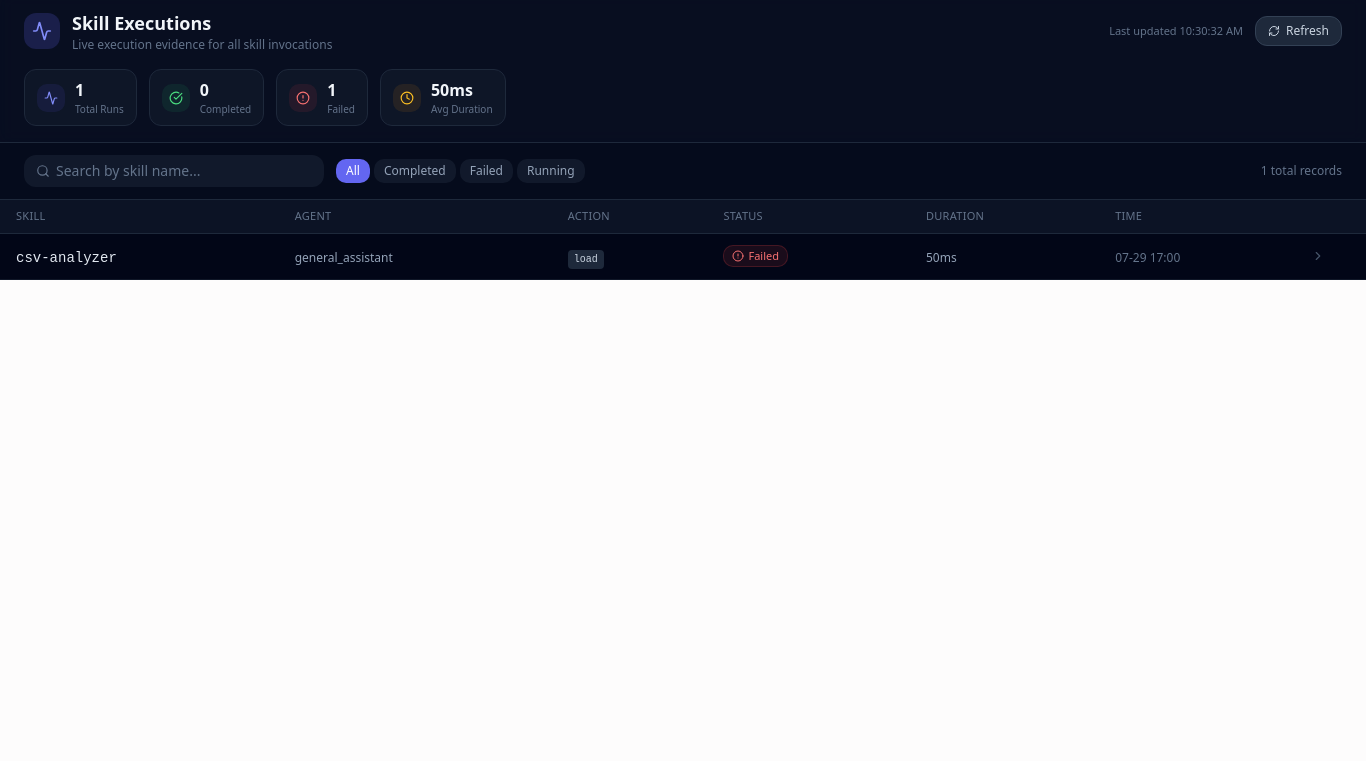
SkillExecutions dashboard — UI automation › displays error message in detail panel for failed executions
Click the text "csv-analyzer" at (66, 258), box [16,250,117,266]
(page scrolled)
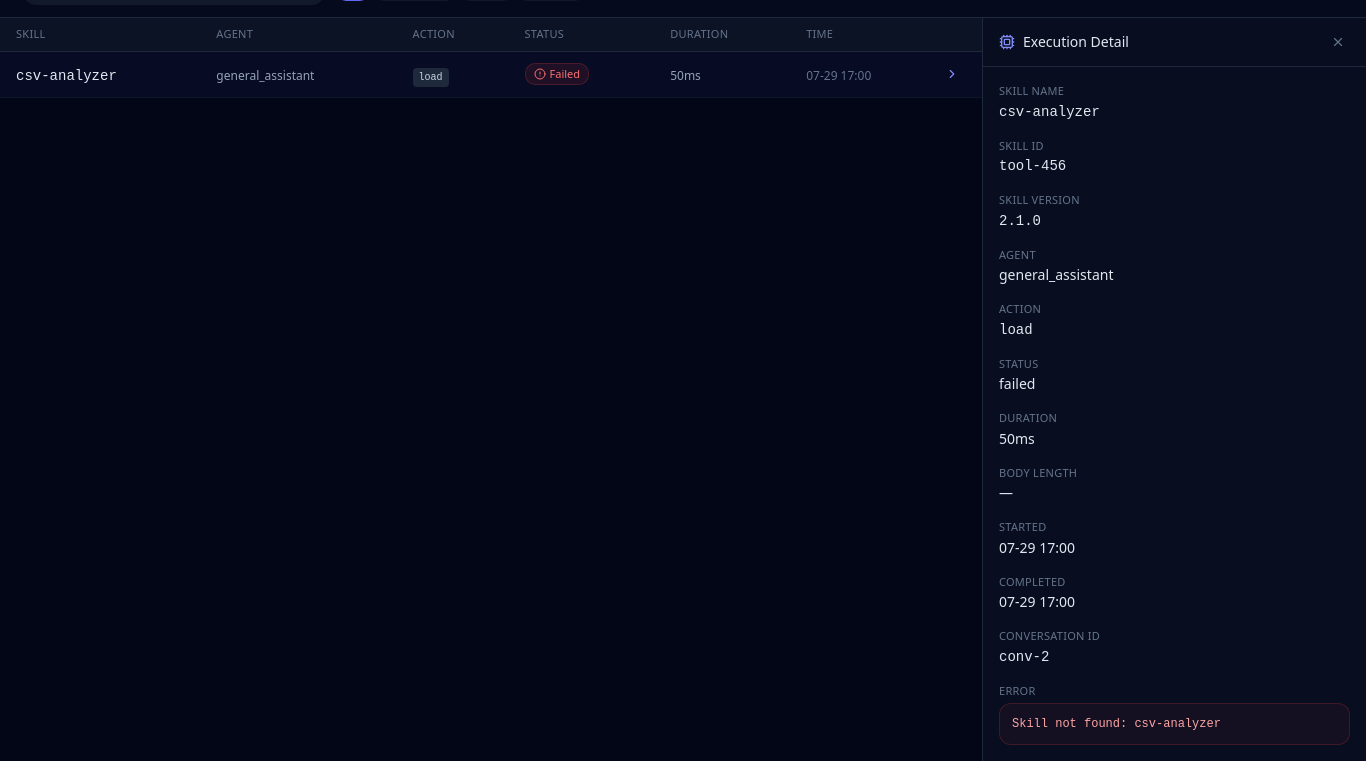
Expected: the text "Skill not found: csv-analyzer" is shown, [1012,717,1221,731]
